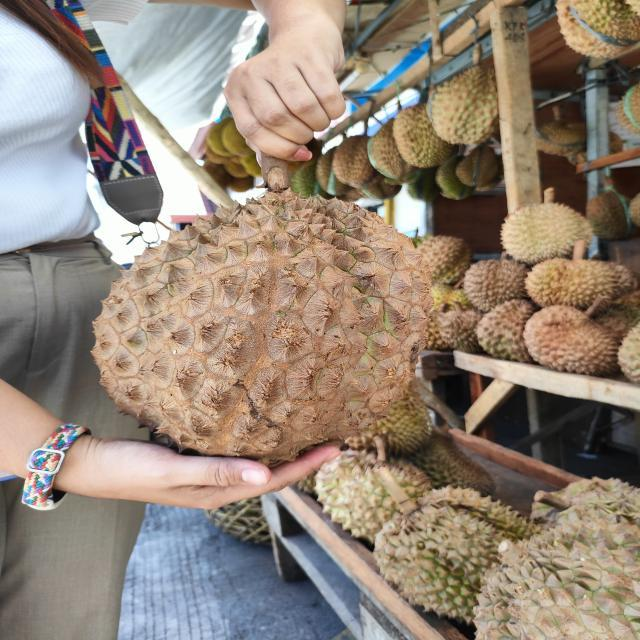mature: (94, 195, 436, 461)
